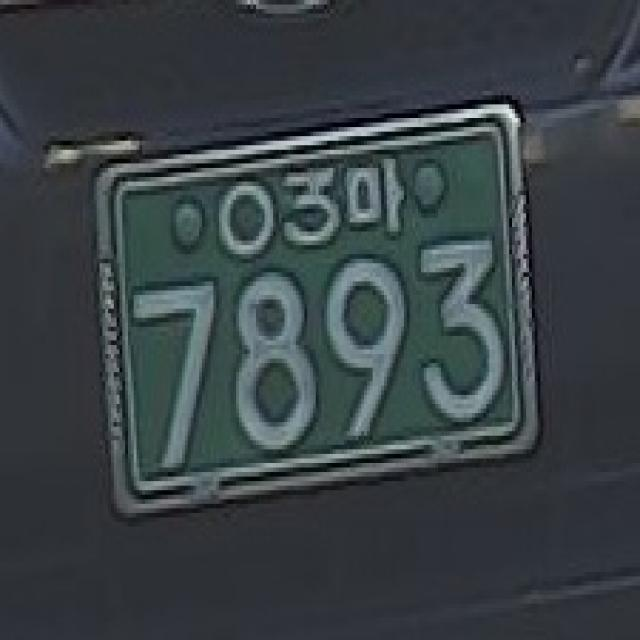0: (213, 180, 273, 262)
3: (414, 226, 508, 426), (282, 168, 346, 255)
7: (132, 276, 222, 466)
8: (230, 268, 322, 452)
9: (324, 256, 414, 446)
license_plate: (74, 95, 564, 535)
ma: (346, 156, 408, 245)
